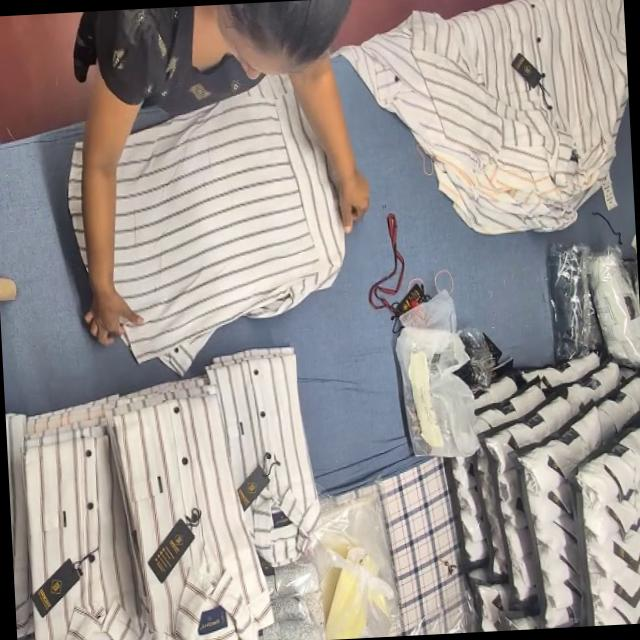new-garment: (114, 78, 343, 373), (114, 81, 343, 371), (67, 143, 91, 272)
